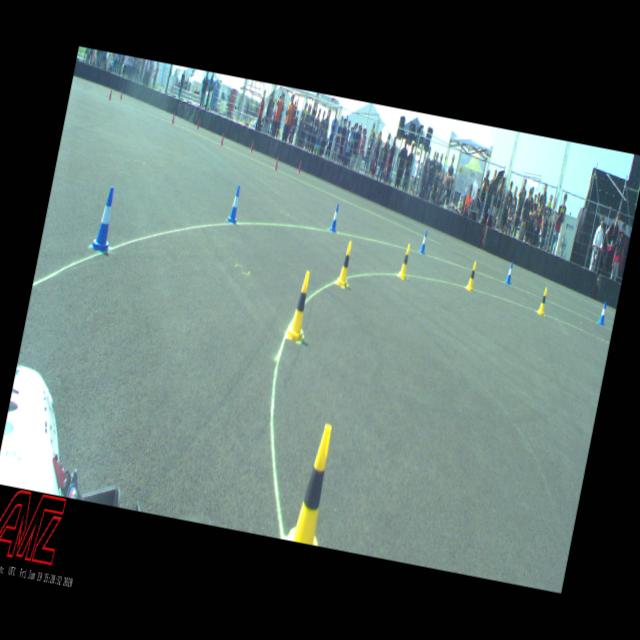blue_cone: (89, 185, 120, 252), (226, 184, 244, 224), (329, 203, 341, 232), (598, 302, 608, 326), (419, 230, 429, 254), (504, 262, 514, 285)
yellow_cone: (286, 421, 341, 546), (286, 270, 314, 341), (336, 240, 355, 287), (398, 243, 412, 280), (466, 260, 478, 292), (538, 286, 550, 314)
